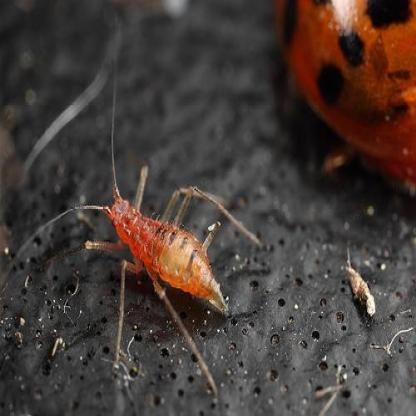aphid: (66, 104, 258, 399)
